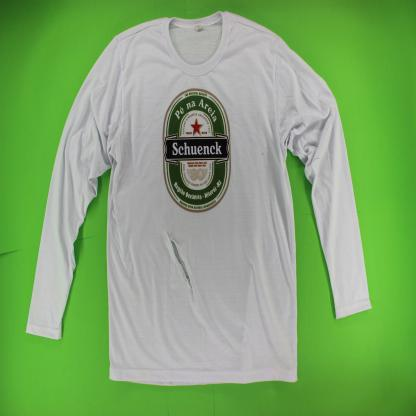hole: (164, 228, 198, 308)
